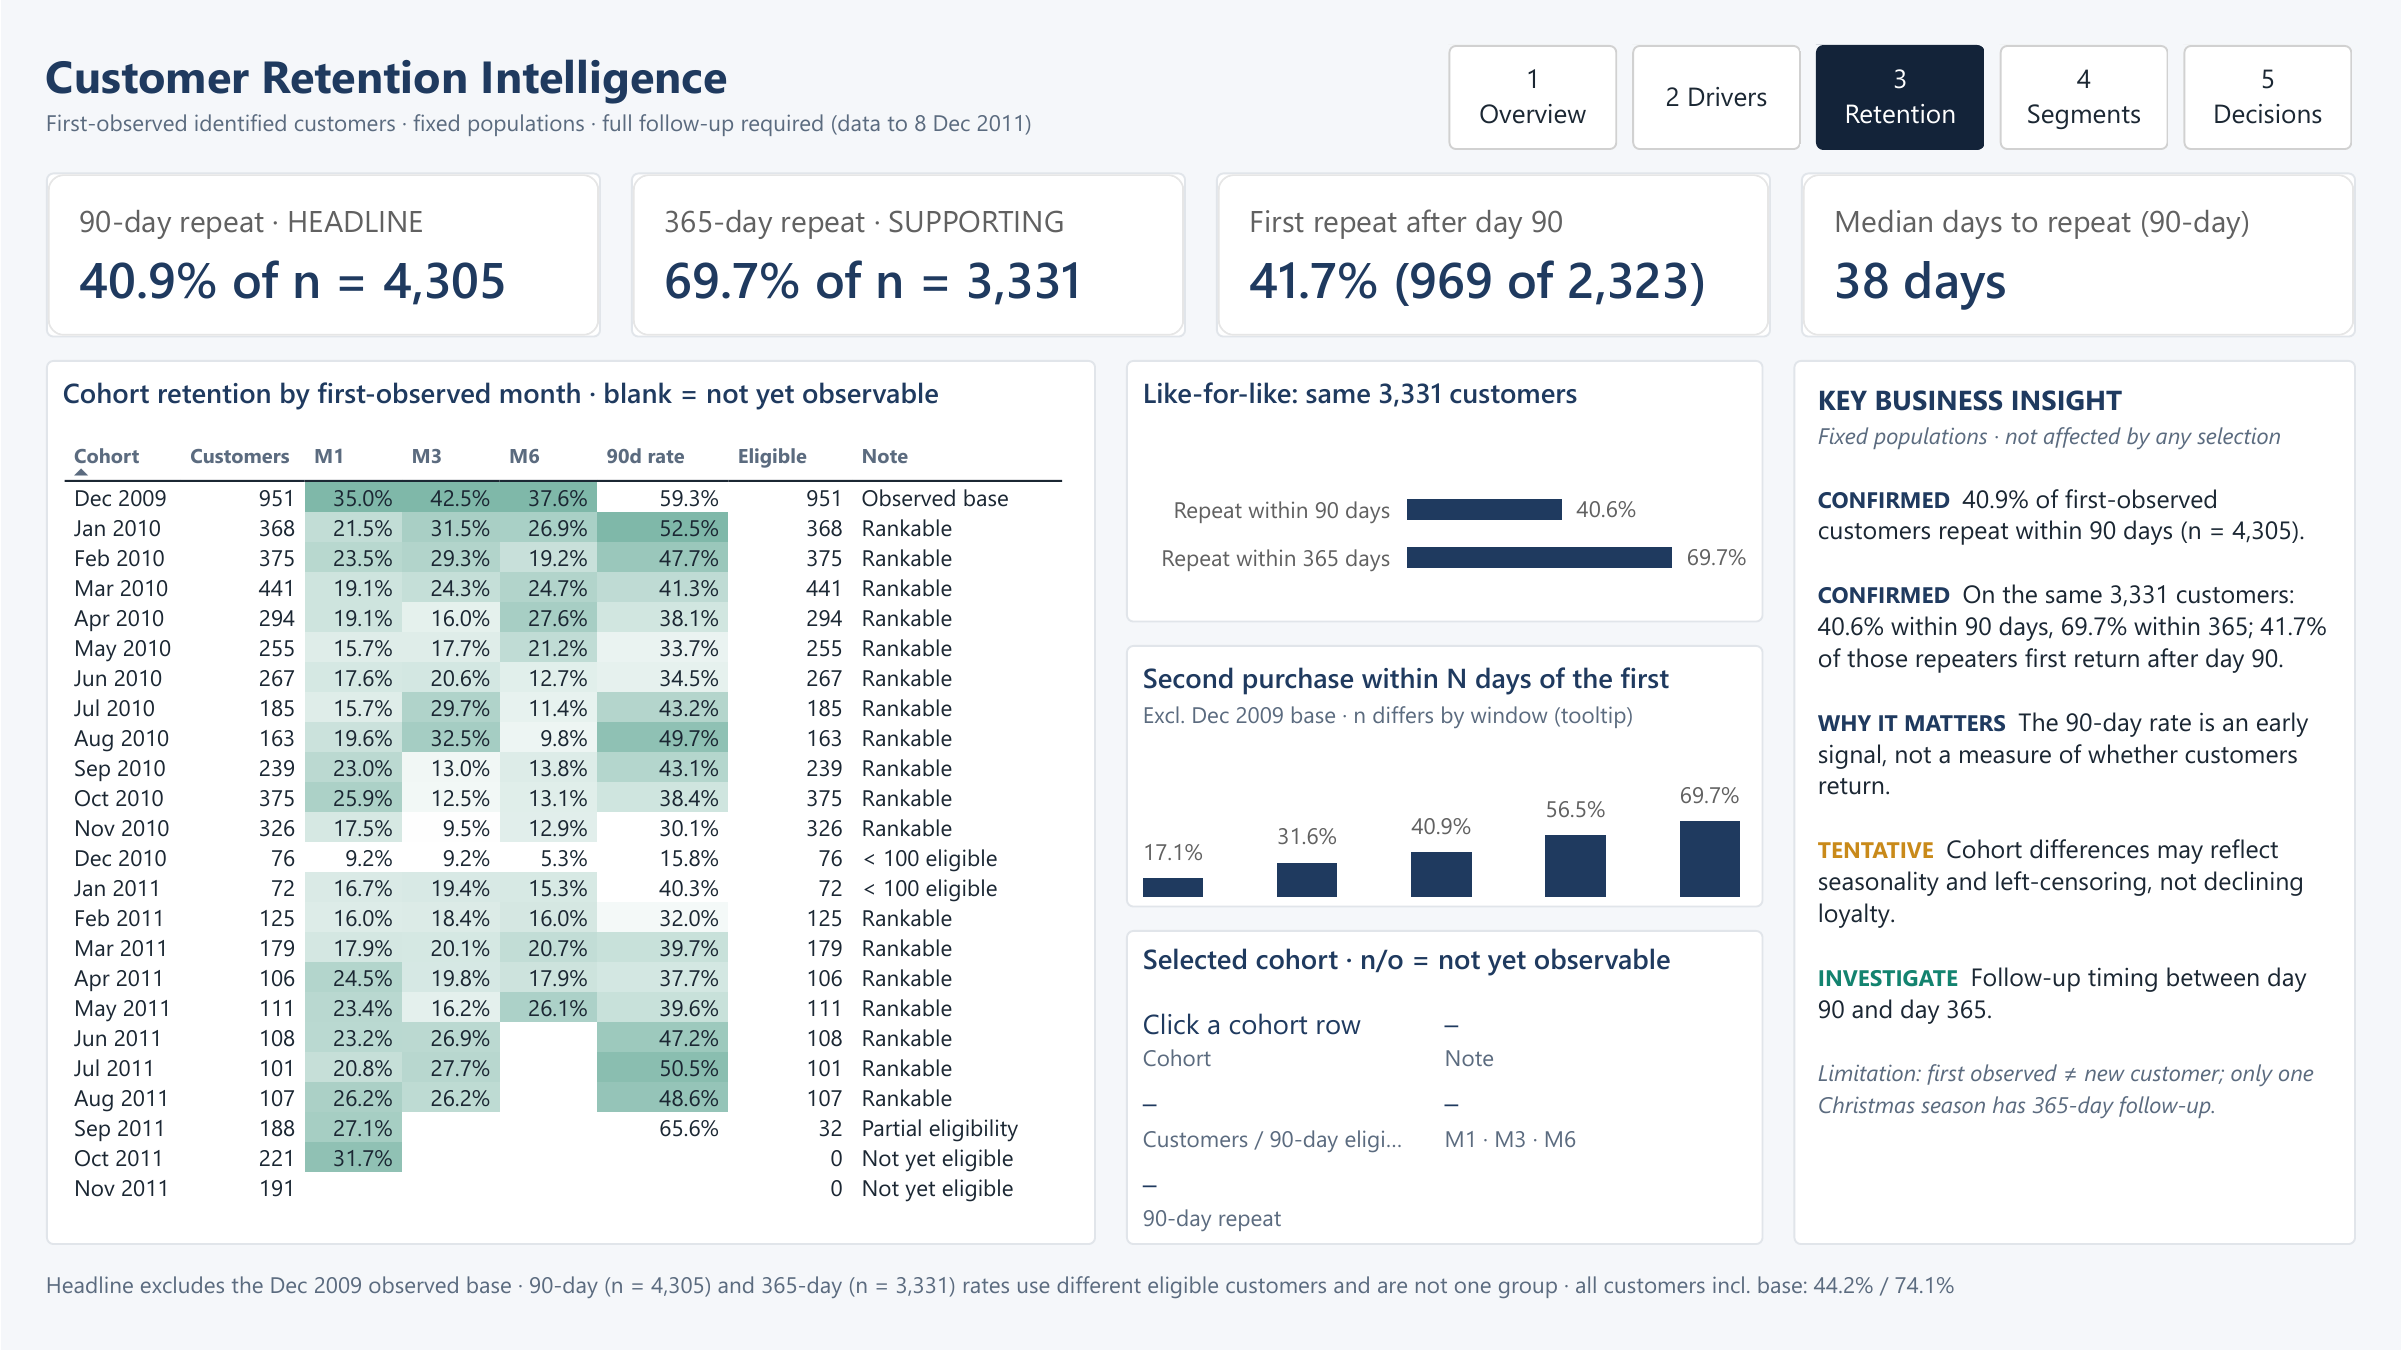

The dashboard page shown, as its layout file describes it:
{"tool":"powerbi","page":{"name":"3 Retention","canvas":[1280,720],"ordinal":2},"visuals":[{"type":"textbox","box":[24,24,740,56],"z":10},{"type":"pageNavigator","box":[772,24,484,56],"z":22},{"type":"cardVisual","fields":{"Data":["_Measures.Card Repeat 90d Headline"]},"box":[24,92,296,88],"z":30},{"type":"cardVisual","fields":{"Data":["_Measures.Card Repeat 365d Headline"]},"box":[336,92,296,88],"z":31},{"type":"cardVisual","fields":{"Data":["_Measures.Card Late Repeat"]},"box":[648,92,296,88],"z":32},{"type":"cardVisual","fields":{"Data":["_Measures.Card Median Days 90d"]},"box":[960,92,296,88],"z":33},{"type":"tableEx","title":"Cohort retention by first-observed month · blank = not yet observable","fields":{"Values":["ref_cohort_presentation.cohort_label","ref_cohort_presentation.cohort_size","_Measures.Cohort M1","_Measures.Cohort M3","_Measures.Cohort M6","_Measures.Cohort 90d Repeat","ref_cohort_presentation.eligible_90d","_Measures.Cohort Note"]},"box":[24,192,560,472],"z":40},{"type":"clusteredBarChart","title":"Like-for-like: same 3,331 customers","fields":{"Category":["p3_lfl_line.line"],"Y":["_Measures.LFL Repeat Rate"]},"box":[600,192,340,140],"z":41},{"type":"clusteredColumnChart","title":"Second purchase within N days of the first","fields":{"Category":["ref_time_to_second.window_days"],"Y":["_Measures.Time to 2nd Rate"]},"box":[600,344,340,140],"z":42},{"type":"multiRowCard","title":"Selected cohort · n/o = not yet observable","fields":{"Values":["_Measures.Cohort Detail Title","_Measures.Cohort Detail Note","_Measures.Cohort Detail Customers","_Measures.Cohort Detail Retention","_Measures.Cohort Detail 90d"]},"box":[600,496,340,168],"z":43},{"type":"textbox","box":[956,192,300,472],"z":50},{"type":"textbox","box":[24,676,1232,20],"z":60}]}

Visuals, with their boxes in screenshot pixels (x1, y1, x2, y2), scaled from the page's 1280x720 canvas onto the 2401x1350 screenshot:
textbox: {"left": 45, "top": 45, "right": 1433, "bottom": 150}
pageNavigator: {"left": 1448, "top": 45, "right": 2356, "bottom": 150}
cardVisual - _Measures.Card Repeat 90d Headline: {"left": 45, "top": 172, "right": 600, "bottom": 338}
cardVisual - _Measures.Card Repeat 365d Headline: {"left": 630, "top": 172, "right": 1185, "bottom": 338}
cardVisual - _Measures.Card Late Repeat: {"left": 1216, "top": 172, "right": 1771, "bottom": 338}
cardVisual - _Measures.Card Median Days 90d: {"left": 1801, "top": 172, "right": 2356, "bottom": 338}
"Cohort retention by first-observed month · blank = not yet observable" tableEx: {"left": 45, "top": 360, "right": 1095, "bottom": 1245}
"Like-for-like: same 3,331 customers" clusteredBarChart: {"left": 1125, "top": 360, "right": 1763, "bottom": 622}
"Second purchase within N days of the first" clusteredColumnChart: {"left": 1125, "top": 645, "right": 1763, "bottom": 908}
"Selected cohort · n/o = not yet observable" multiRowCard: {"left": 1125, "top": 930, "right": 1763, "bottom": 1245}
textbox: {"left": 1793, "top": 360, "right": 2356, "bottom": 1245}
textbox: {"left": 45, "top": 1268, "right": 2356, "bottom": 1305}
